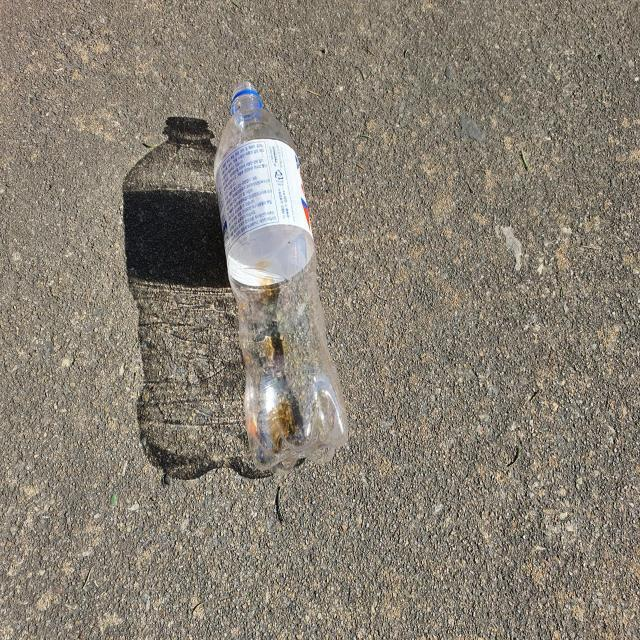plastic: (214, 81, 348, 474)
